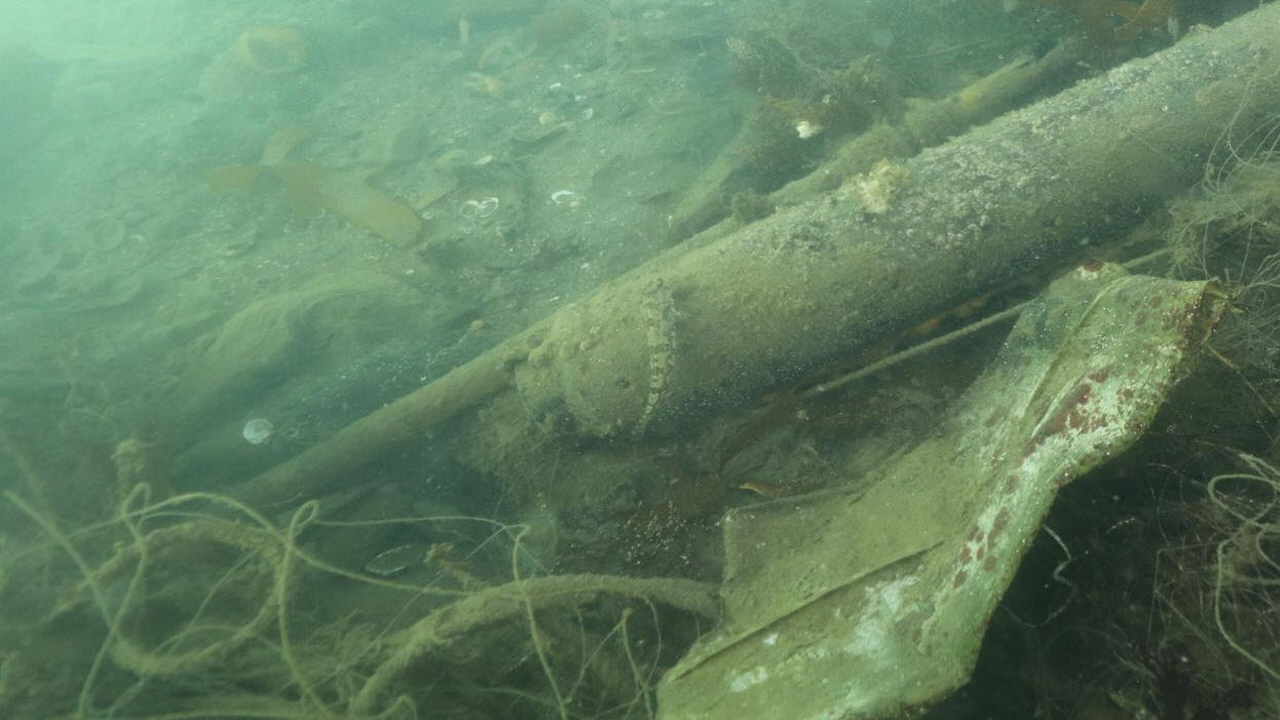bundle of ropes: (0, 483, 723, 720)
eel fish trap: (509, 0, 1280, 440)
